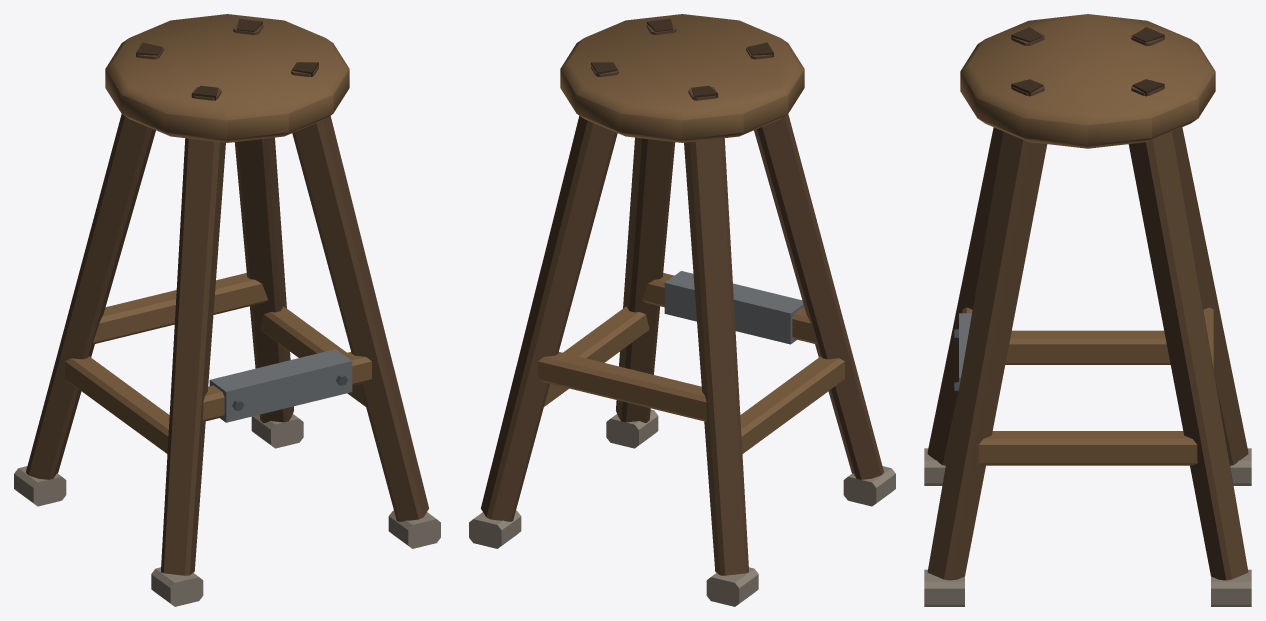
The model's file is SM_LPD_Furn_StoolTall_01.fbx.
3 views of the same model, side by side, from view 1: azimuth 30°, elevation 25°; view 2: azimuth 150°, elevation 25°; view 3: azimuth 270°, elevation 25° (orthographic). The views are drawn at different scales.
Visible parts, largest first — view 1: SM_LPD_Furn_StoolTall_01; view 2: SM_LPD_Furn_StoolTall_01; view 3: SM_LPD_Furn_StoolTall_01.
Boxes of the visible parts, x1=… form: SM_LPD_Furn_StoolTall_01: x1=14, y1=14, x2=440, y2=606; SM_LPD_Furn_StoolTall_01: x1=469, y1=14, x2=895, y2=606; SM_LPD_Furn_StoolTall_01: x1=924, y1=14, x2=1251, y2=606.
Size of the model in its own units: 0.4468 by 0.7273 by 0.4488.
